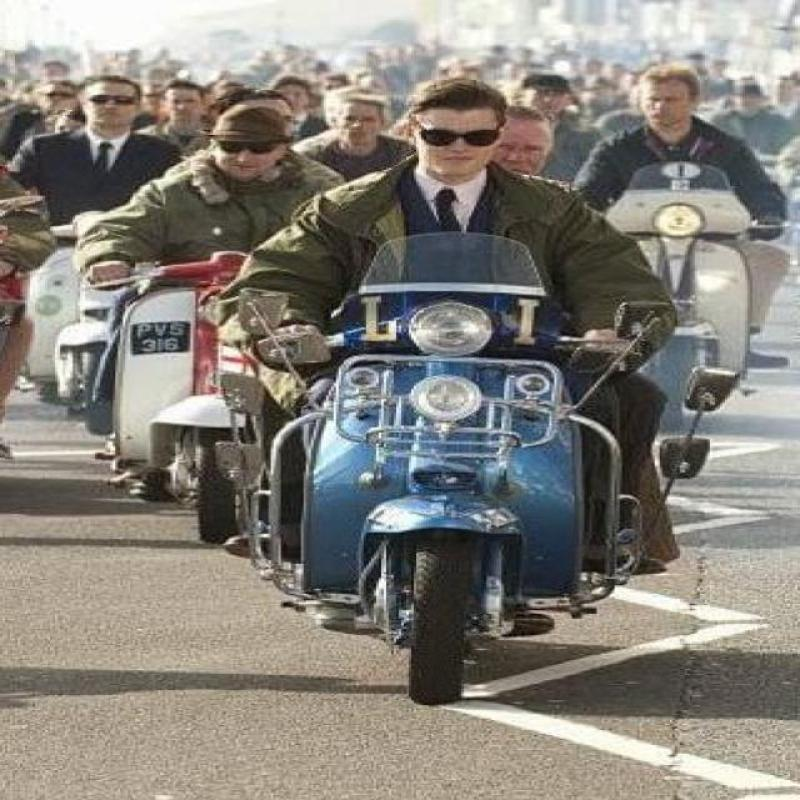nohelmet: (398, 84, 518, 174), (208, 86, 313, 186), (78, 68, 164, 158), (634, 62, 718, 137)
